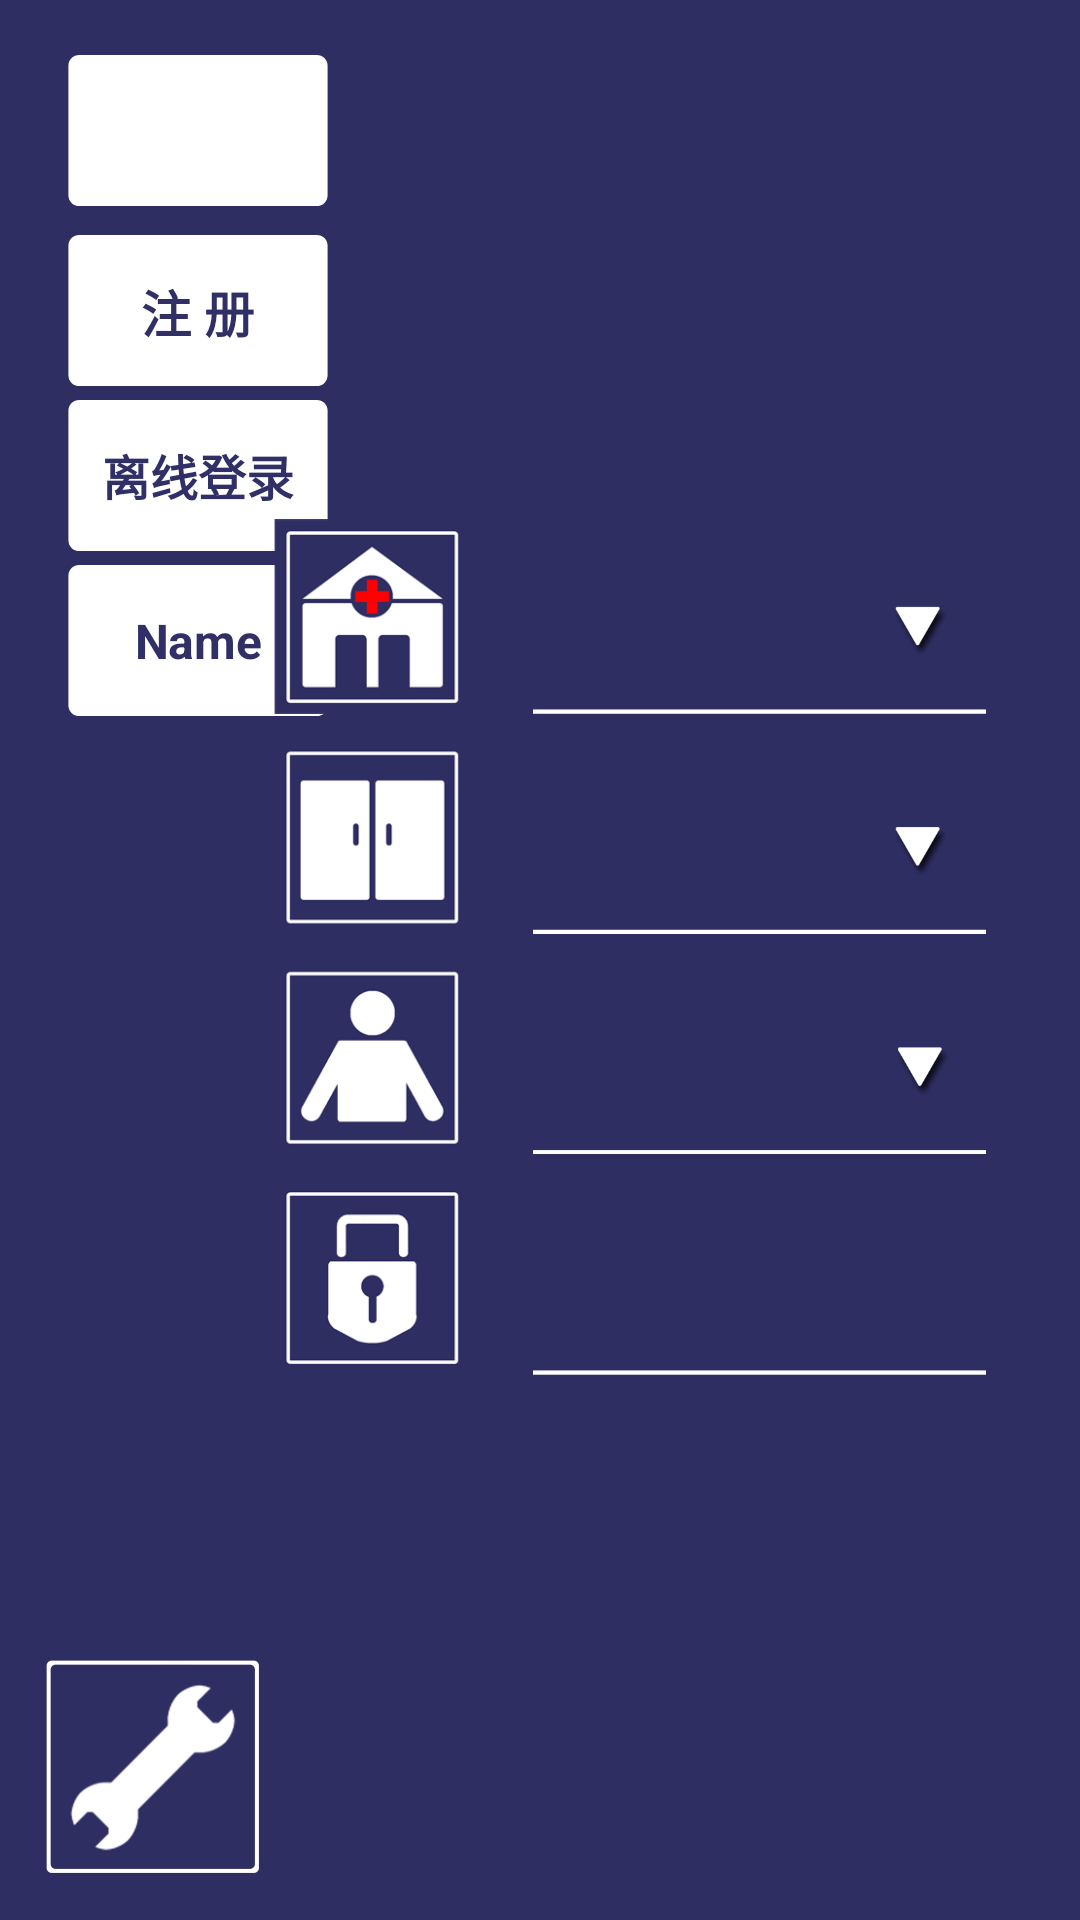

Point at icon controls on the screen. Image size 1080×1920, points as point (x, y).
settings: point (152, 1766)
